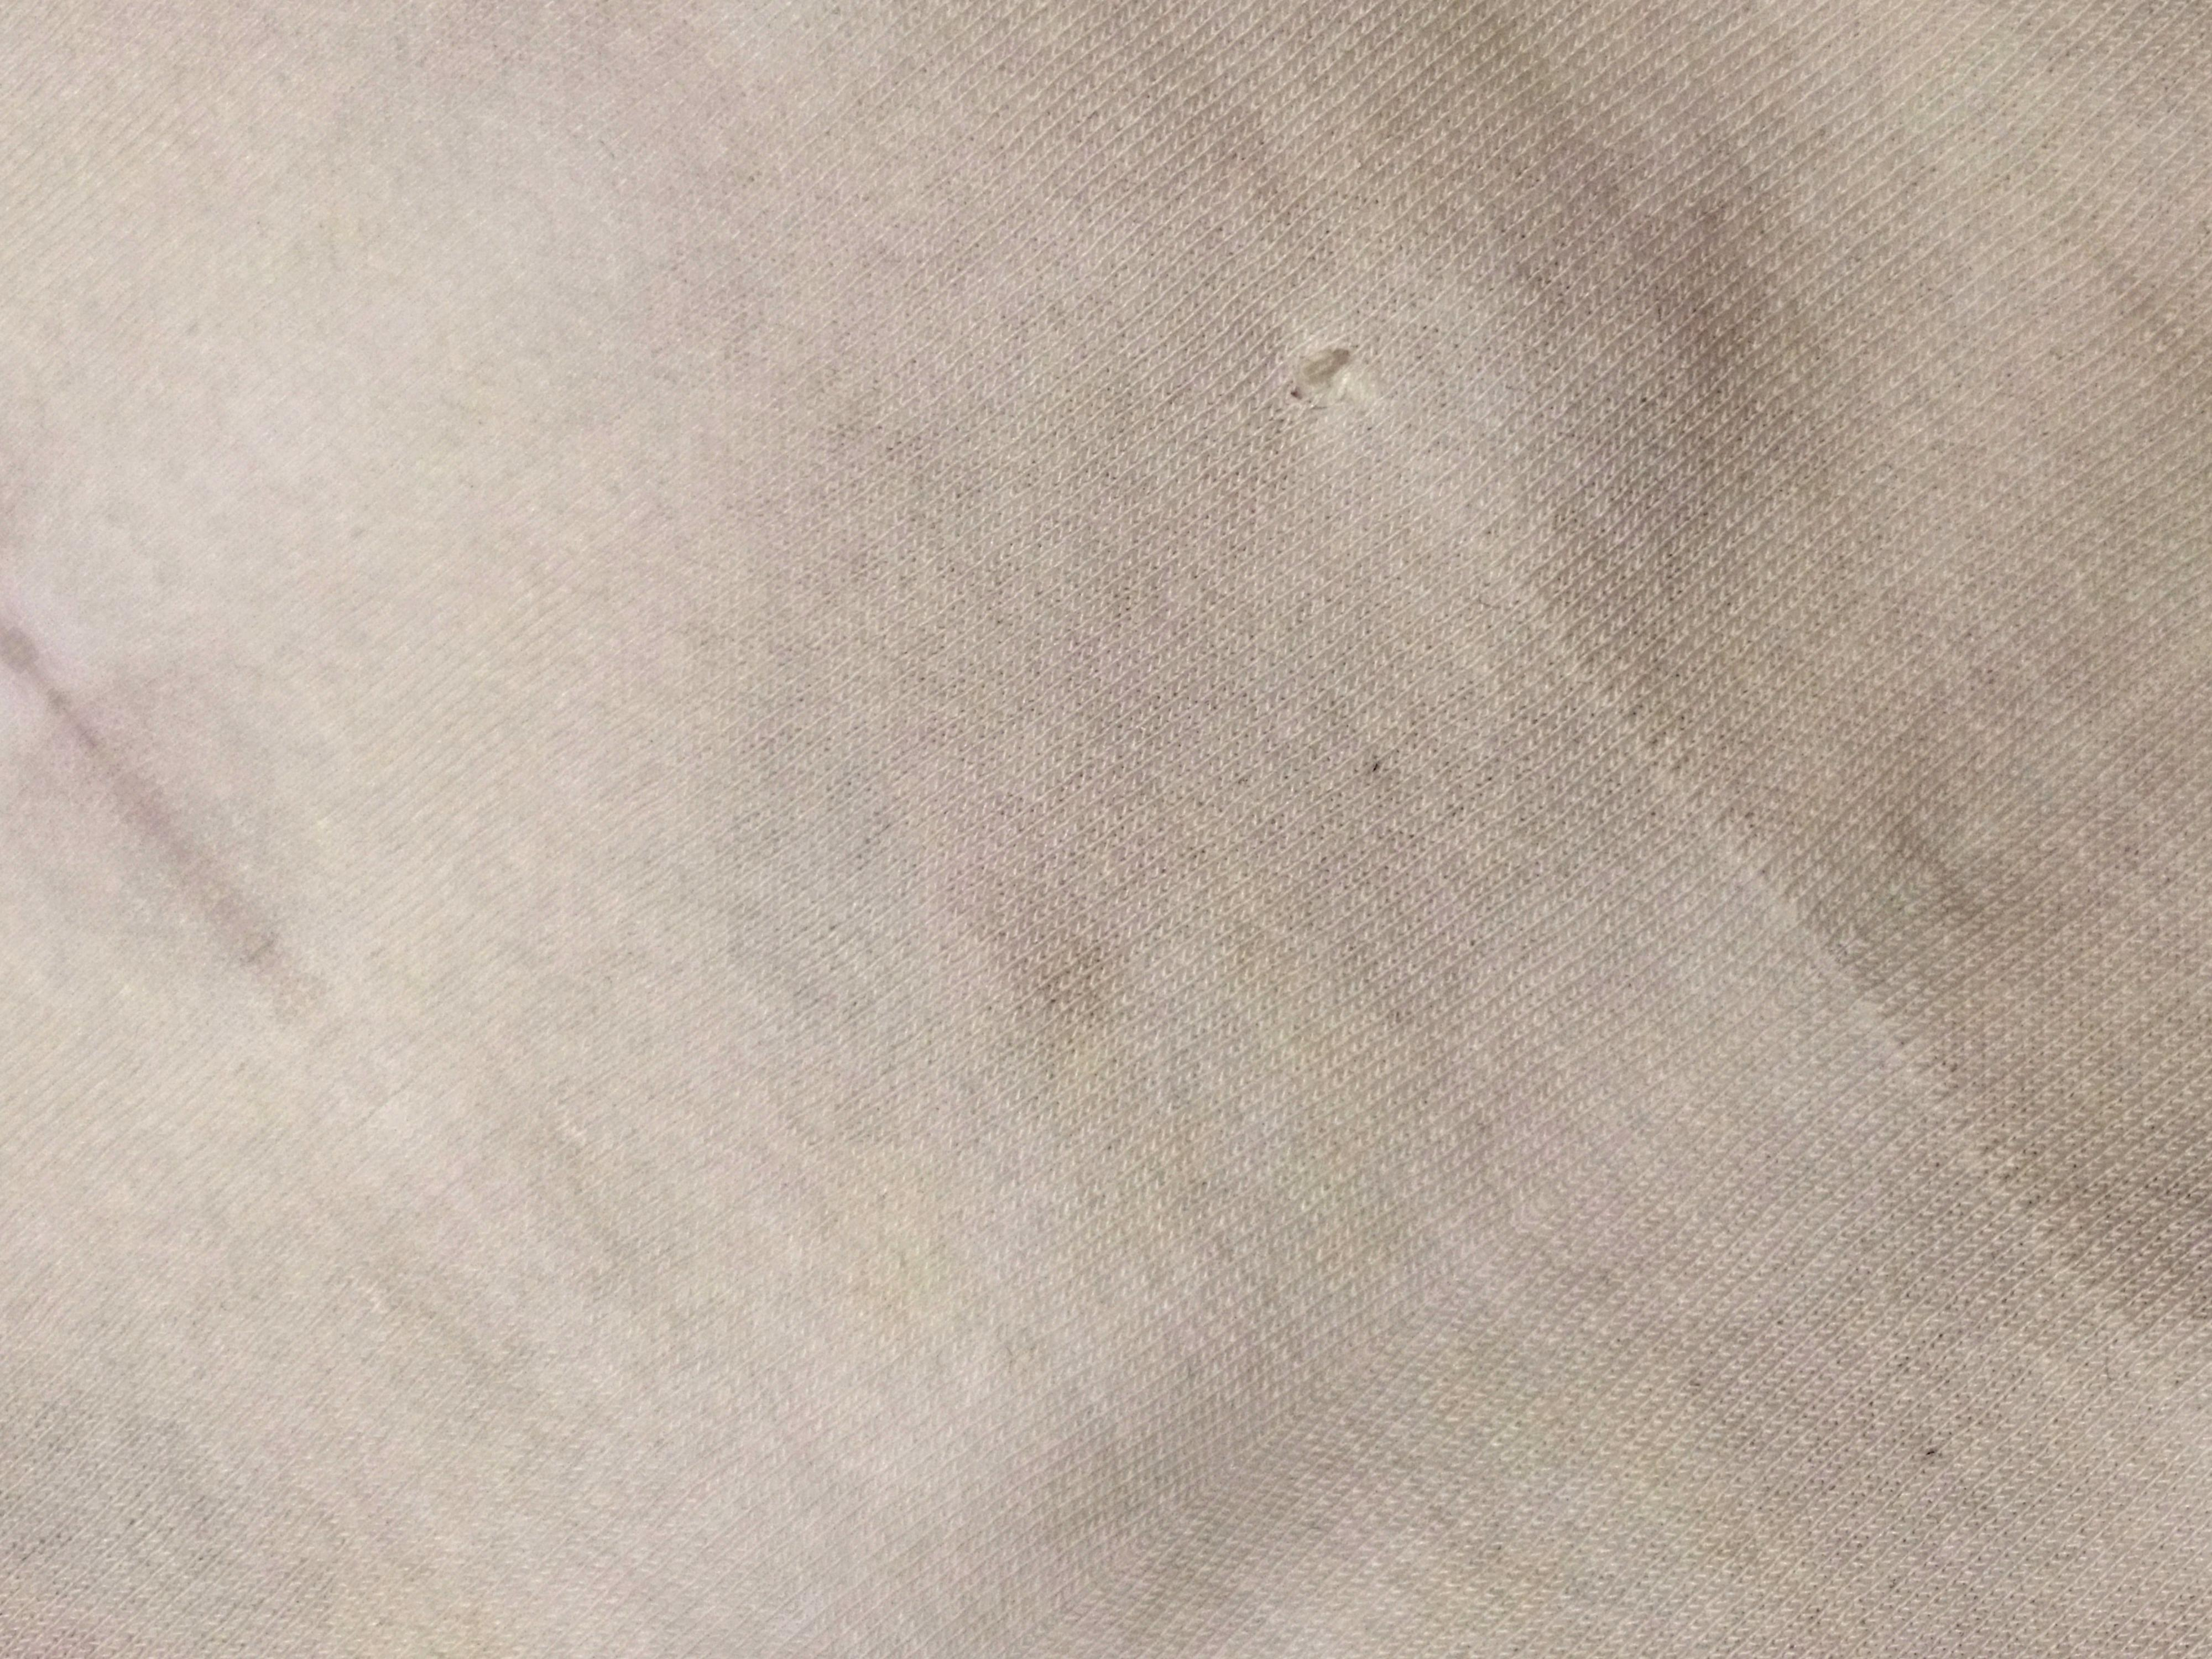knot: (1249, 319, 1393, 458)
